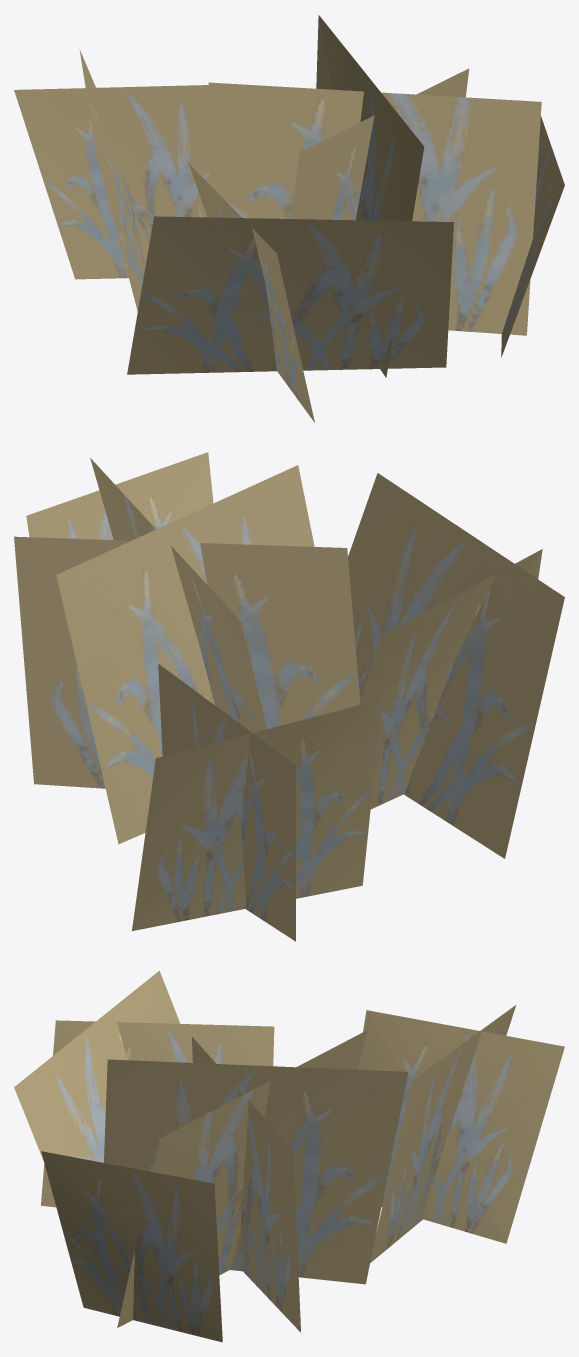
Rendered from rzjd_cao_01.FBX.
3 renders of one model, top to bottom at view 1: azimuth 30°, elevation 25°; view 2: azimuth 150°, elevation 25°; view 3: azimuth 270°, elevation 25°, orthographic. The views are drawn at different scales.
Visible parts, largest first — view 1: rzjd_cao_01; view 2: rzjd_cao_01; view 3: rzjd_cao_01.
Boxes of the visible parts, x1,y1,x2,y2 form: rzjd_cao_01: [14, 15, 564, 422]; rzjd_cao_01: [14, 452, 564, 941]; rzjd_cao_01: [14, 970, 564, 1342].
Size of the model in its own units: 51.23 by 27.15 by 59.79.
